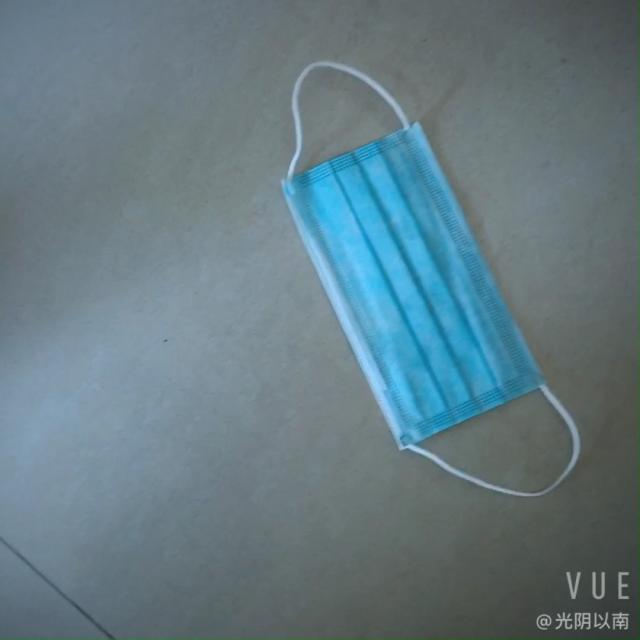face mask: (266, 114, 572, 472)
